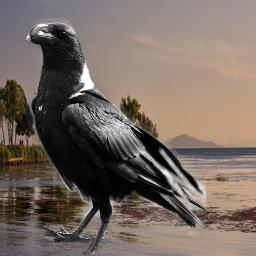Crow: (20, 18, 206, 255)
